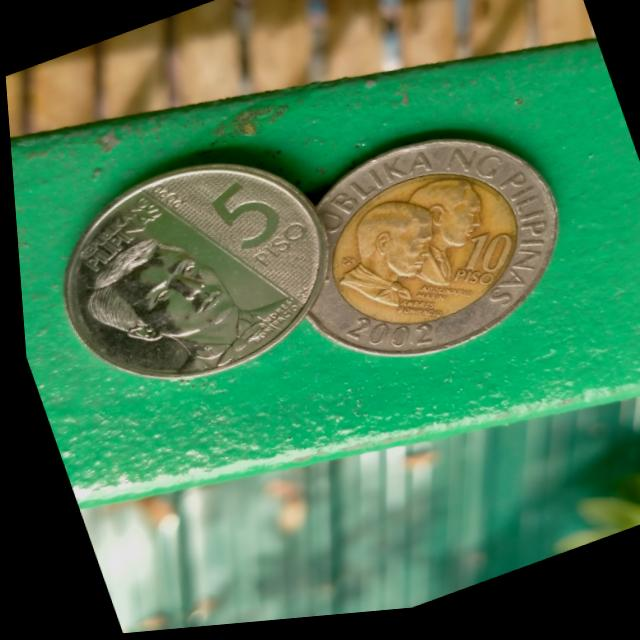10_Old_Front: (295, 133, 557, 372)
5_New_Front: (48, 154, 326, 400)
